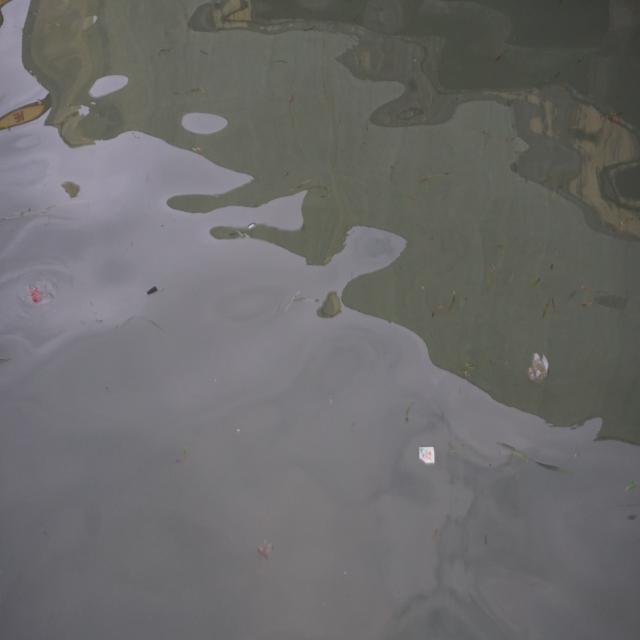Bungkus Minuman: (417, 438, 441, 474)
Kantong Plastik: (526, 344, 554, 392)
